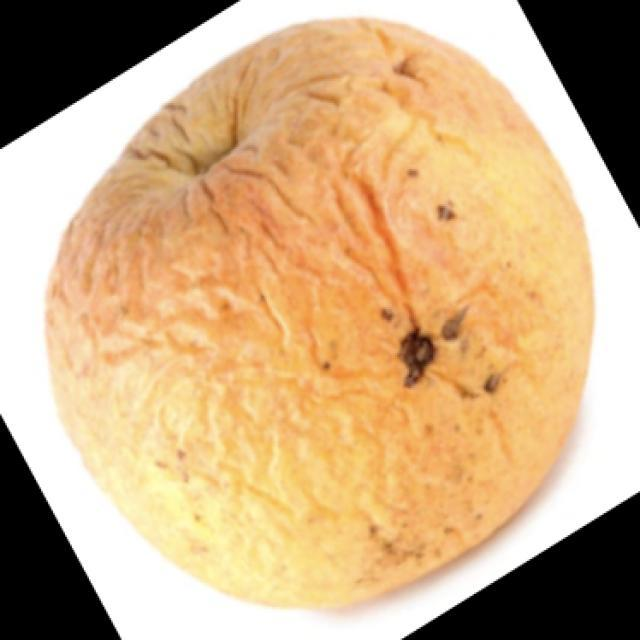Rotten: (85, 32, 577, 585)
